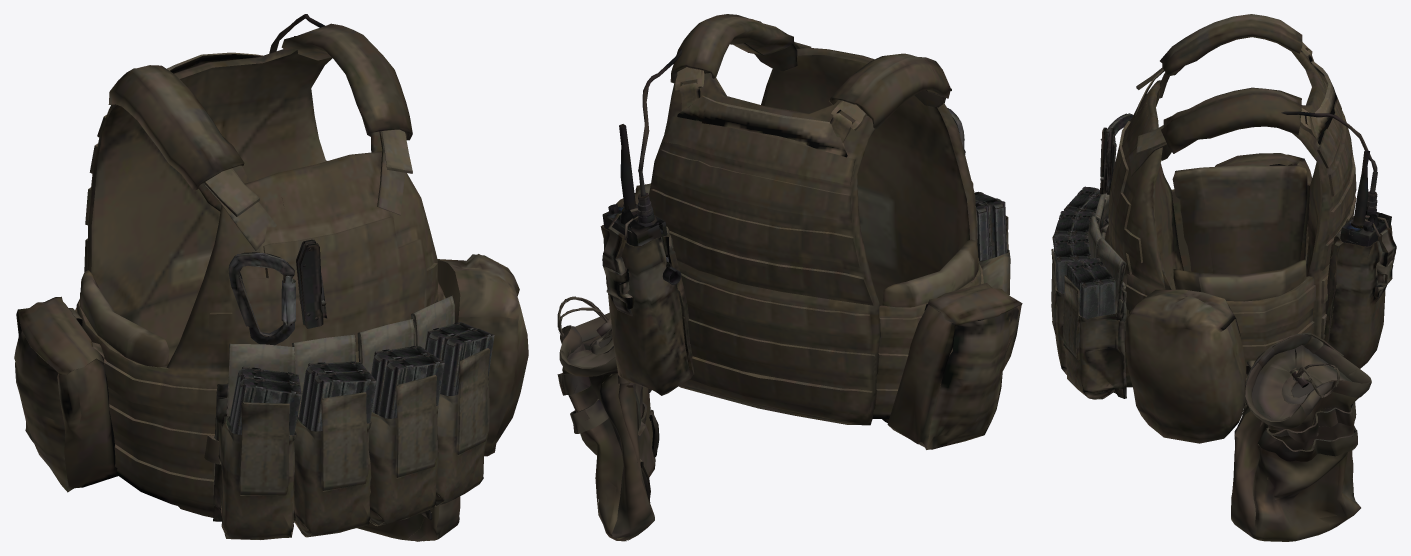
Rendered from vest.obj.
3 views of the same model, side by side, from view 1: azimuth 30°, elevation 25°; view 2: azimuth 150°, elevation 25°; view 3: azimuth 270°, elevation 25° (orthographic). The views are drawn at different scales.
Parts seen in each view (by area): view 1: polySurface1.002_polySurface1Shape.002; view 2: polySurface1.002_polySurface1Shape.002; view 3: polySurface1.002_polySurface1Shape.002.
Boxes of the visible parts, bbox=[...] form: polySurface1.002_polySurface1Shape.002: bbox=[14, 14, 528, 541]; polySurface1.002_polySurface1Shape.002: bbox=[557, 14, 1022, 541]; polySurface1.002_polySurface1Shape.002: bbox=[1051, 14, 1396, 541].
Bounding box in the file's own units: 2.48 × 2.82 × 2.08.
1 material, 1 textured.
